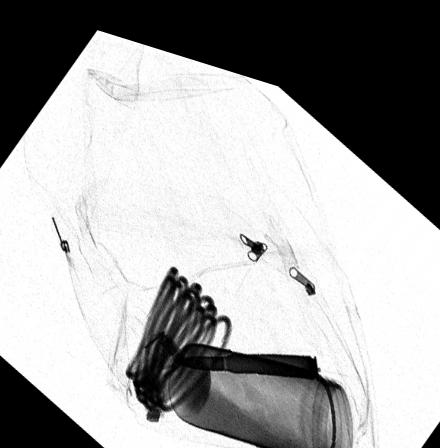Bullet: (169, 333, 318, 359)
